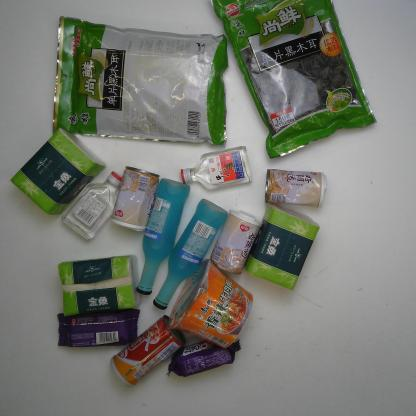Alcohol: (151, 197, 230, 312), (135, 175, 192, 296), (58, 167, 126, 243), (178, 144, 254, 194)
Canned Food: (108, 313, 187, 389), (209, 206, 265, 277), (111, 162, 160, 235), (261, 167, 331, 210)
Dessert: (54, 301, 142, 349), (164, 334, 244, 379)
Dried Food: (209, 0, 382, 162), (51, 12, 231, 150)
Instant Noodles: (166, 254, 257, 350)
Tissue: (9, 127, 108, 218), (243, 200, 322, 292), (55, 254, 142, 318)
